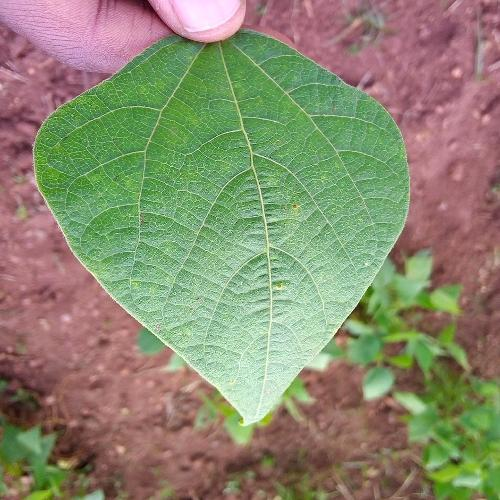sehat: (70, 60, 411, 344)
